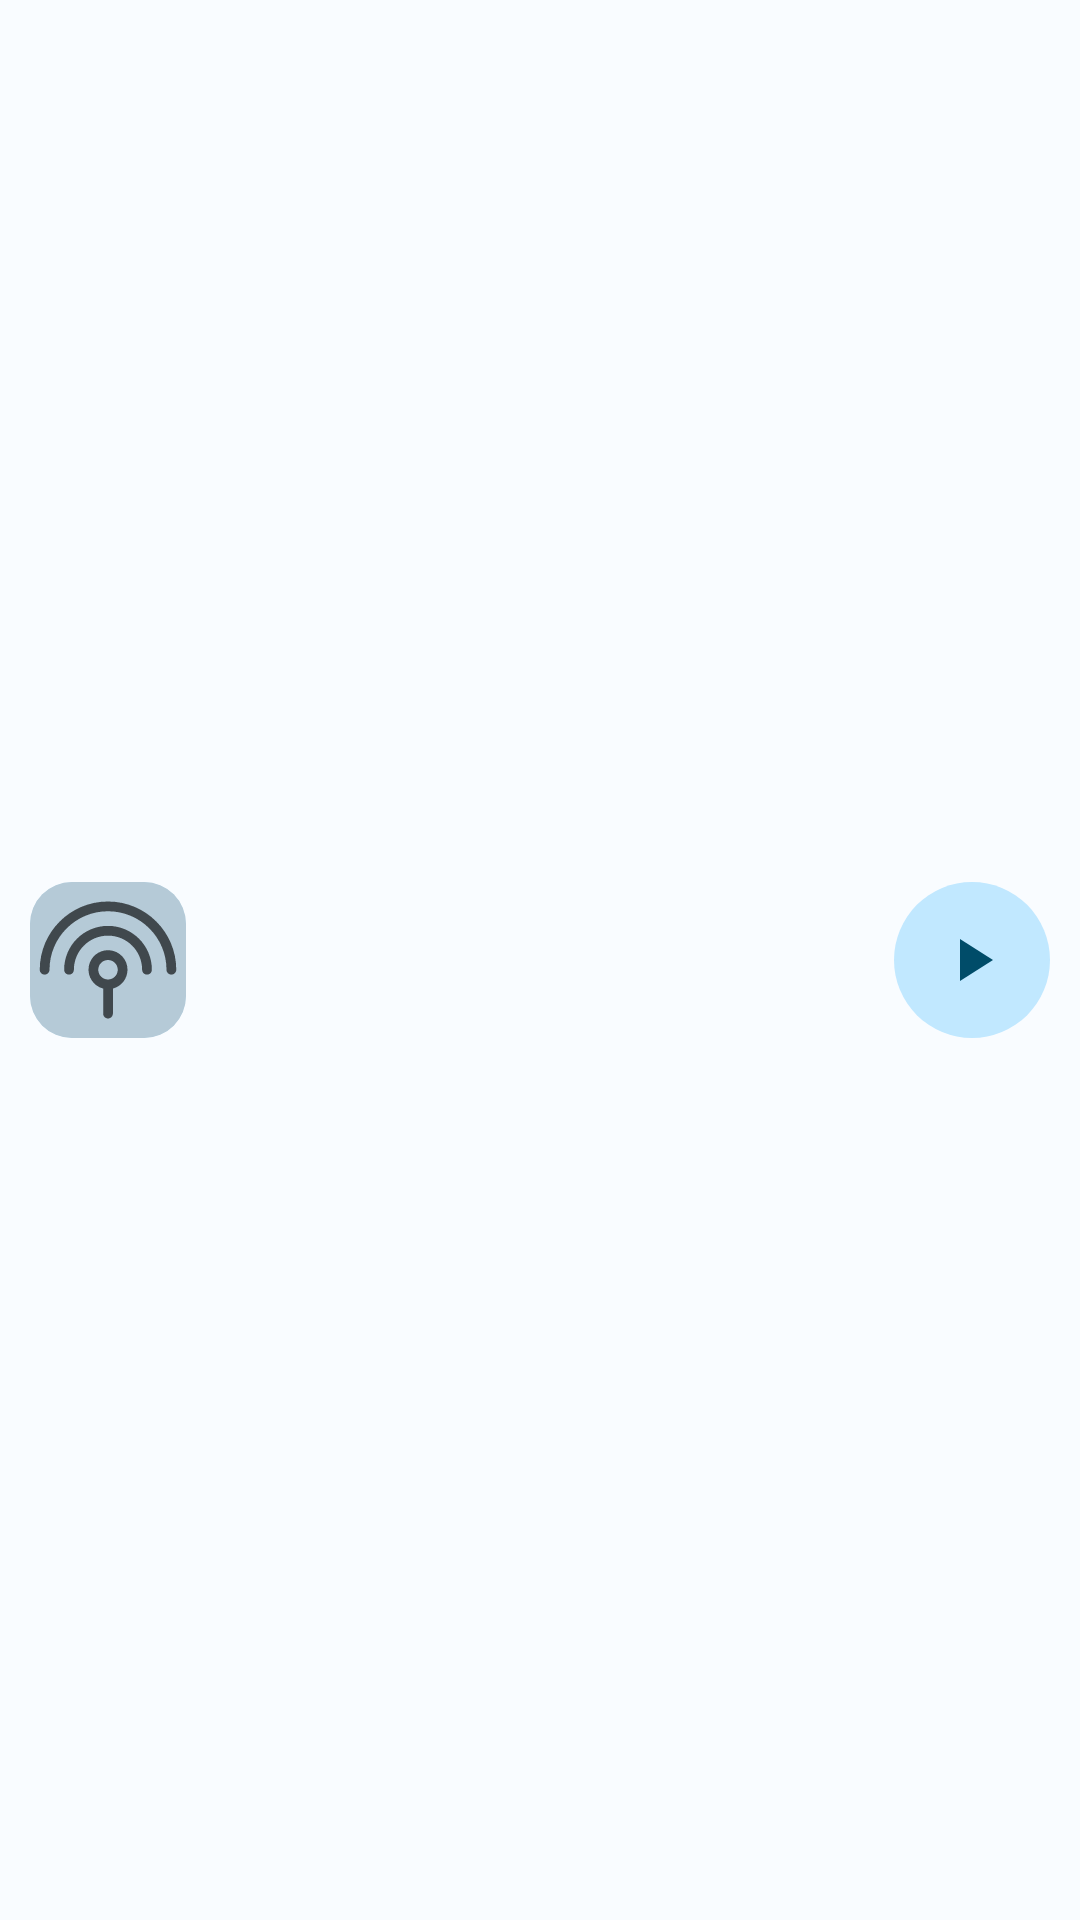

Icon click points for this 1080*1920 phone screenshot, format point (x, y):
Play/pause: point (972, 960)
station: point (108, 960)
